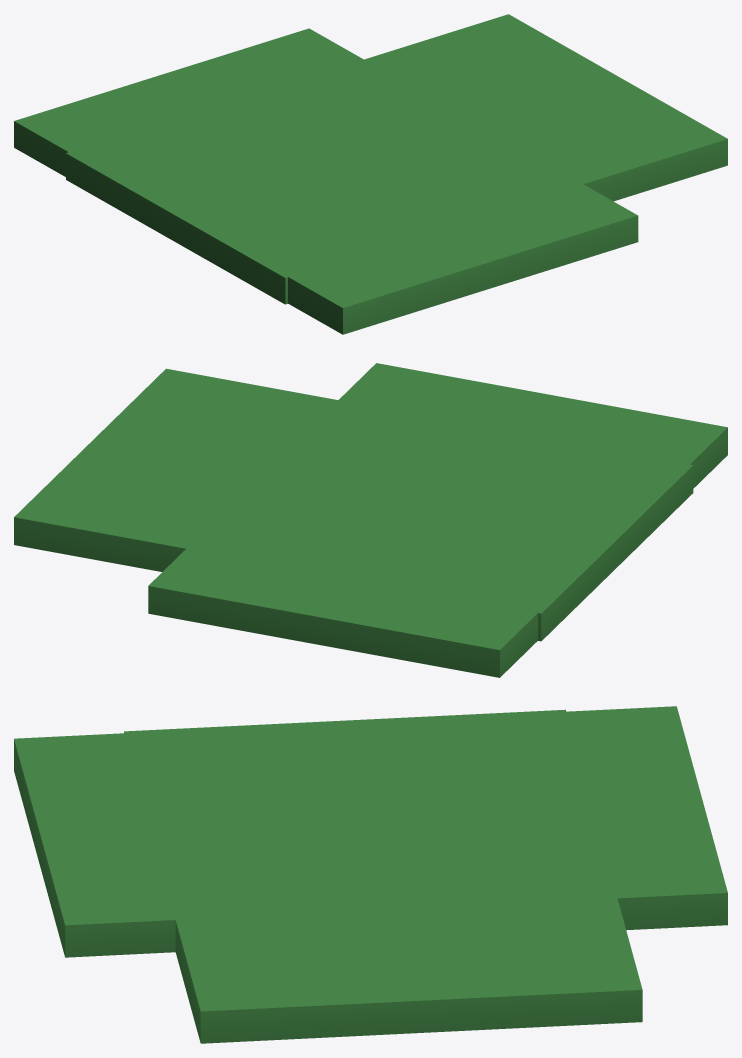
File: C07_lily_pad.glb
3 renders of one model, top to bottom at view 1: azimuth 30°, elevation 25°; view 2: azimuth 150°, elevation 25°; view 3: azimuth 270°, elevation 25°, orthographic. The views are drawn at different scales.
Visible parts, largest first — view 1: C07_lily_pad; view 2: C07_lily_pad; view 3: C07_lily_pad.
Part boxes in pixels (x1=…): C07_lily_pad: x1=14, y1=14, x2=727, y2=334; C07_lily_pad: x1=14, y1=363, x2=727, y2=677; C07_lily_pad: x1=14, y1=706, x2=727, y2=1043.
Bounding box in the file's own units: 0.812 × 0.04 × 0.8026.
